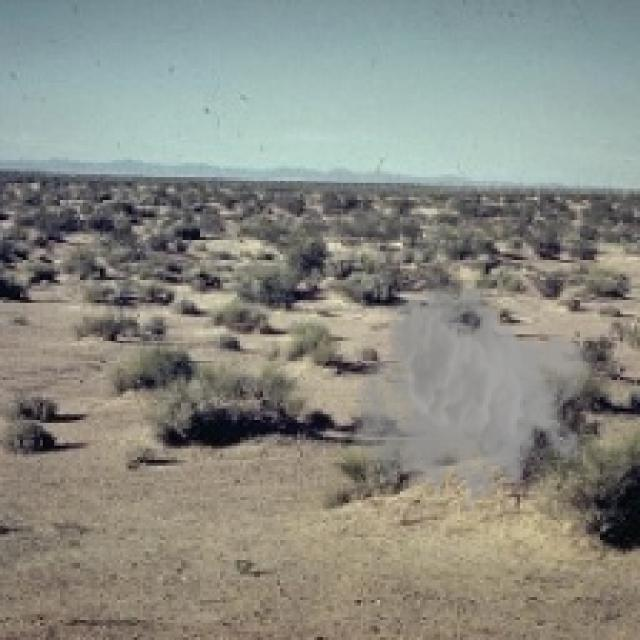smoke: (352, 271, 594, 526)
